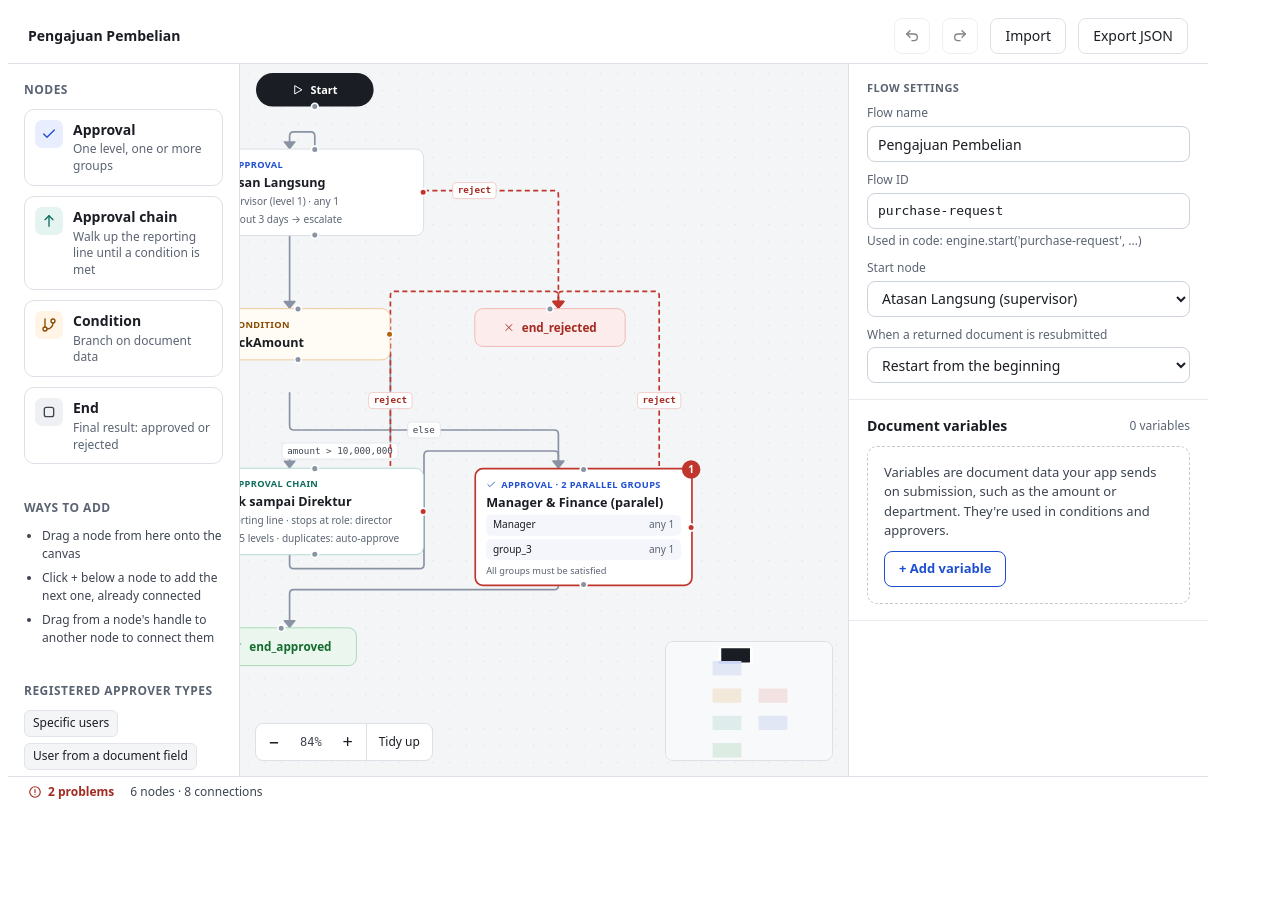
it: approval panel › adds group IDs that are not taken yet
Click the element with test id "node-review" at (584, 527), box [474,468,693,587]
(page scrolled)
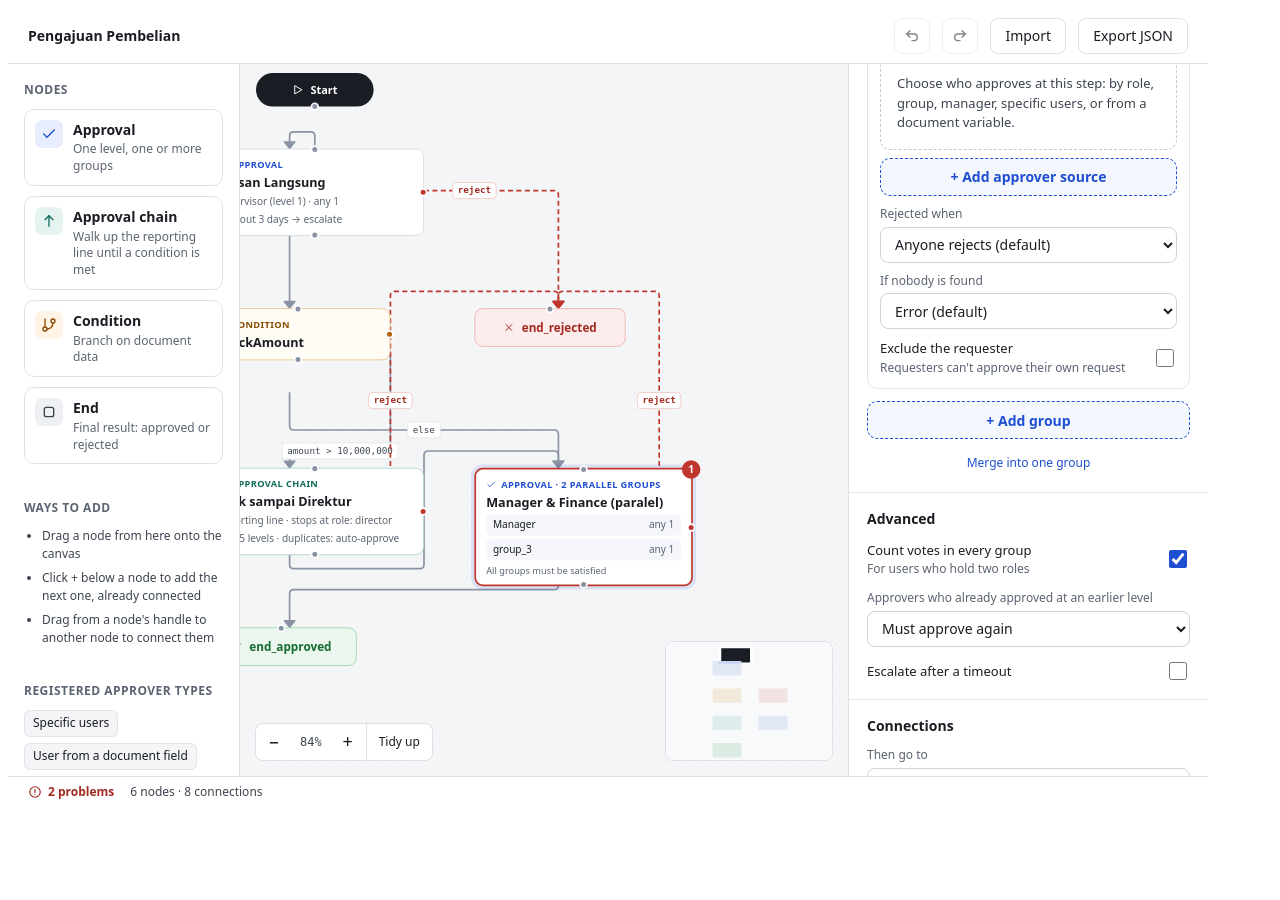
Click the button "+ Add group" at (1028, 420), box [867,401,1190,439]
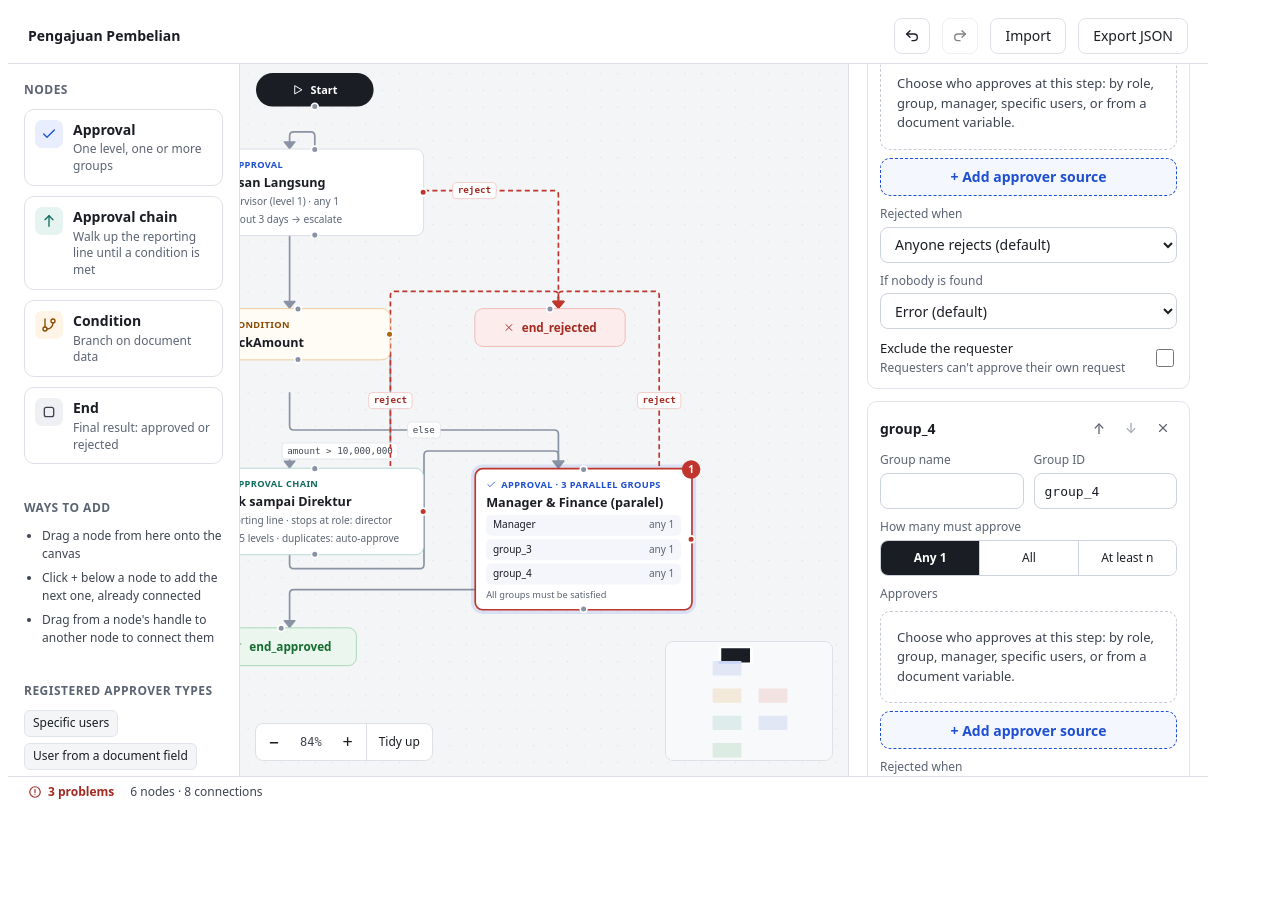
Expected: the text "group_4" below "group_3" is shown, [493,566,532,580]
